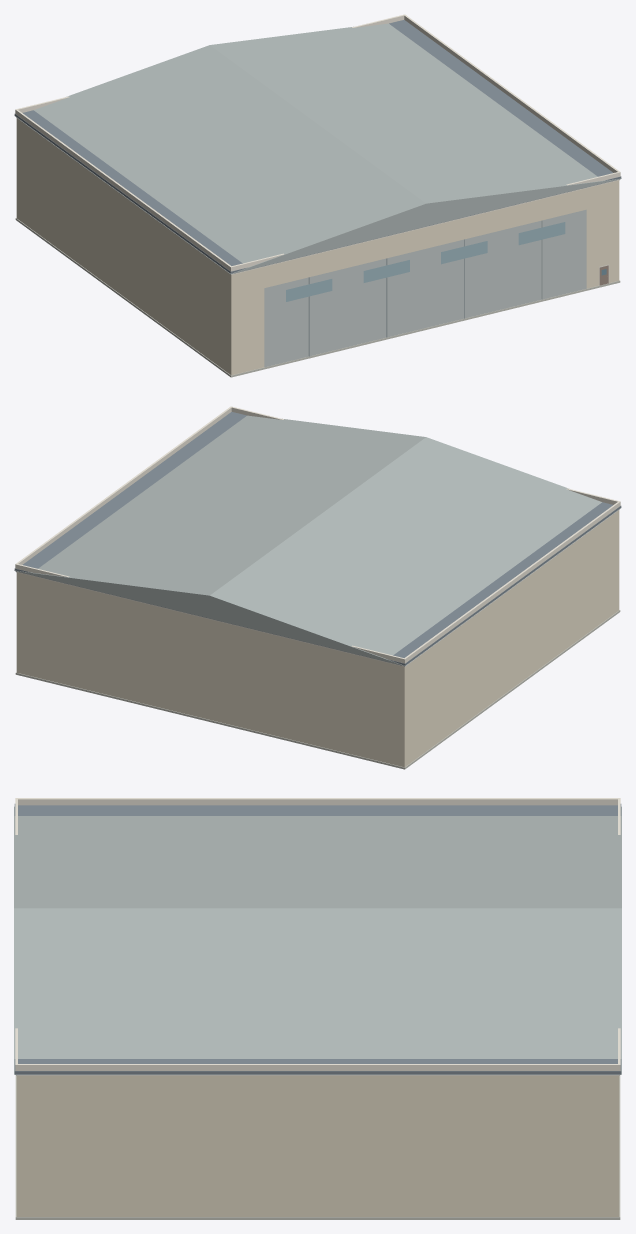
The model's file is airport-aircraft-hangar.glb.
3 views of the same model, one above another, from view 1: azimuth 30°, elevation 25°; view 2: azimuth 150°, elevation 25°; view 3: azimuth 270°, elevation 25° (orthographic). The views are drawn at different scales.
Parts seen in each view (by area): view 1: airport-aircraft-hangar; view 2: airport-aircraft-hangar; view 3: airport-aircraft-hangar.
Boxes of the visible parts, box(x1,y1,x2,y2) form: airport-aircraft-hangar: box(14, 14, 621, 377); airport-aircraft-hangar: box(14, 406, 621, 769); airport-aircraft-hangar: box(14, 798, 621, 1219).
Bounding box in the file's own units: 48.4 × 15 × 46.4.
